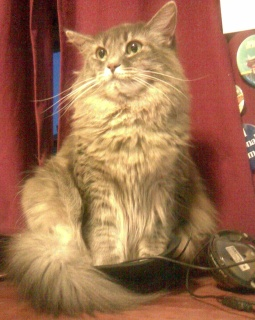Cat: (0, 0, 226, 319)
